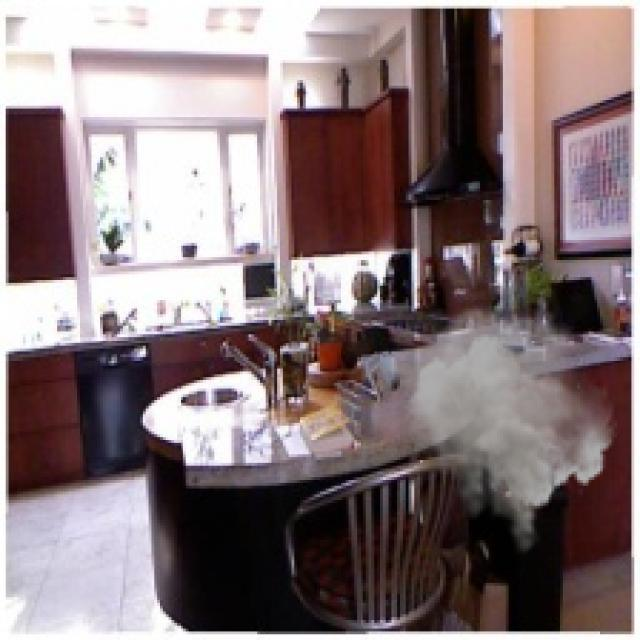Smoke: (374, 300, 617, 557)
